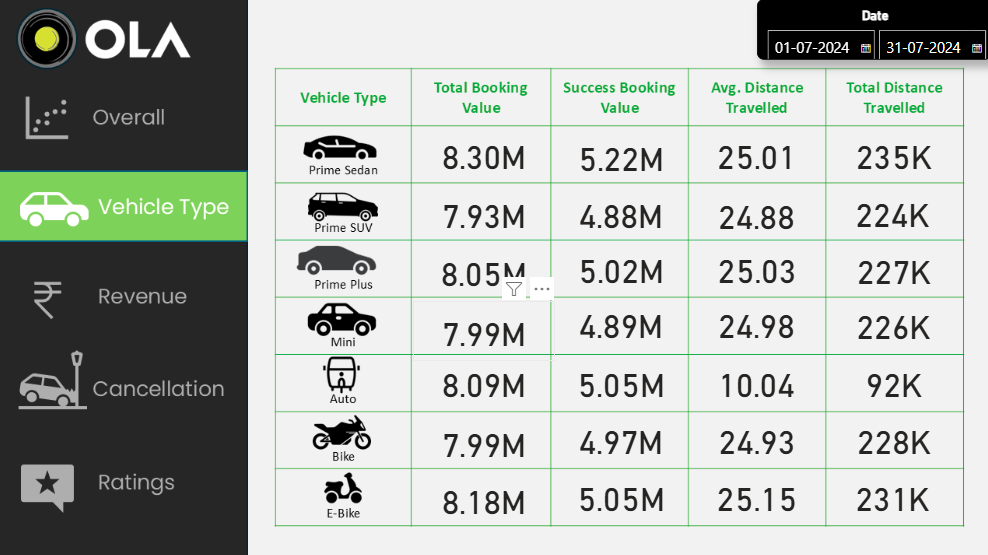

This screenshot's page, from the dashboard's own definition file:
{"tool":"powerbi","page":{"name":"Vehicle Type","canvas":[1280,720],"ordinal":1},"visuals":[{"type":"card","fields":{"Values":["Sum(Bookings.Booking_Value)"]},"box":[535.9,167.1,182.5,63],"z":0},{"type":"card","fields":{"Values":["Sum(Bookings.Booking_Value)"]},"box":[535.9,236.5,182.5,77.1],"z":1000},{"type":"card","fields":{"Values":["Sum(Bookings.Booking_Value)"]},"box":[535.9,311,182.5,77.1],"z":2000},{"type":"card","fields":{"Values":["Sum(Bookings.Booking_Value)"]},"box":[535.9,388.1,182.5,77.1],"z":3000},{"type":"card","fields":{"Values":["Sum(Bookings.Booking_Value)"]},"box":[535.9,453.7,182.5,77.1],"z":4000},{"type":"card","fields":{"Values":["Sum(Bookings.Booking_Value)"]},"box":[535.9,530.8,182.5,77.1],"z":5000},{"type":"card","fields":{"Values":["Sum(Bookings.Booking_Value)"]},"box":[535.9,607.9,182.5,68.1],"z":6000},{"type":"card","fields":{"Values":["Sum(Bookings.Booking_Value)"]},"box":[718.4,167.1,169.6,69.4],"z":7000},{"type":"card","fields":{"Values":["Sum(Bookings.Booking_Value)"]},"box":[718.4,236.5,169.6,75.8],"z":8000},{"type":"card","fields":{"Values":["Sum(Bookings.Booking_Value)"]},"box":[718.4,377.8,169.6,75.8],"z":9000},{"type":"card","fields":{"Values":["Sum(Bookings.Booking_Value)"]},"box":[718.4,312.3,169.6,65.5],"z":10000},{"type":"card","fields":{"Values":["Sum(Bookings.Booking_Value)"]},"box":[718.4,530.8,169.6,69.4],"z":11000},{"type":"card","fields":{"Values":["Sum(Bookings.Booking_Value)"]},"box":[718.4,453.7,169.6,77.1],"z":12000},{"type":"card","fields":{"Values":["Sum(Bookings.Booking_Value)"]},"box":[718.4,600.2,169.6,75.8],"z":13000},{"type":"card","fields":{"Values":["Avg(Bookings.Ride_Distance)"]},"box":[888,167.1,178.6,63],"z":14000},{"type":"card","fields":{"Values":["Avg(Bookings.Ride_Distance)"]},"box":[888,237.8,178.6,75.8],"z":15000},{"type":"card","fields":{"Values":["Avg(Bookings.Ride_Distance)"]},"box":[893.2,312.3,169.6,65.5],"z":16000},{"type":"card","fields":{"Values":["Avg(Bookings.Ride_Distance)"]},"box":[888,377.8,178.6,75.8],"z":17000},{"type":"card","fields":{"Values":["Avg(Bookings.Ride_Distance)"]},"box":[888,453.7,178.6,77.1],"z":18000},{"type":"card","fields":{"Values":["Avg(Bookings.Ride_Distance)"]},"box":[893.2,530.8,169.6,69.4],"z":19000},{"type":"card","fields":{"Values":["Avg(Bookings.Ride_Distance)"]},"box":[893.2,600.2,169.6,75.8],"z":20000},{"type":"card","fields":{"Values":["Sum(Bookings.Ride_Distance)"]},"box":[1066.7,167.1,174.8,63],"z":21000},{"type":"card","fields":{"Values":["Sum(Bookings.Ride_Distance)"]},"box":[1062.8,235.2,178.6,75.8],"z":22000},{"type":"card","fields":{"Values":["Sum(Bookings.Ride_Distance)"]},"box":[1069.2,313.6,169.6,65.5],"z":23000},{"type":"card","fields":{"Values":["Sum(Bookings.Ride_Distance)"]},"box":[1064.1,379.1,178.6,75.8],"z":24000},{"type":"card","fields":{"Values":["Sum(Bookings.Ride_Distance)"]},"box":[1069.2,453.7,169.6,77.1],"z":25000},{"type":"card","fields":{"Values":["Sum(Bookings.Ride_Distance)"]},"box":[1069.2,530.8,169.6,69.4],"z":26000},{"type":"card","fields":{"Values":["Sum(Bookings.Ride_Distance)"]},"box":[1062.8,600.2,178.6,75.8],"z":27000},{"type":"slicer","title":"Date","fields":{"Values":["Bookings.Date"]},"box":[978,0,302,78.4],"z":28000},{"type":"actionButton","box":[0,108,322.6,86.1],"z":29000},{"type":"actionButton","box":[0,448.5,322.6,86.1],"z":30000},{"type":"actionButton","box":[0,565.5,322.6,100.2],"z":31000},{"type":"actionButton","box":[0,114.4,322.6,79.7],"z":32000},{"type":"actionButton","box":[10,124.4,322.6,79.7],"z":33000},{"type":"actionButton","box":[10,118,322.6,86.1],"z":34000}]}

Visuals, with their boxes on the page's 1280x720 design canvas (x1, y1, x2, y2). These are canvas units, not pixel positions in the 988x555 screenshot, which may show the page scaled, cropped or inside an application window:
card - Sum(Bookings.Booking_Value): locate(536, 167, 718, 230)
card - Sum(Bookings.Booking_Value): locate(536, 236, 718, 314)
card - Sum(Bookings.Booking_Value): locate(536, 311, 718, 388)
card - Sum(Bookings.Booking_Value): locate(536, 388, 718, 465)
card - Sum(Bookings.Booking_Value): locate(536, 454, 718, 531)
card - Sum(Bookings.Booking_Value): locate(536, 531, 718, 608)
card - Sum(Bookings.Booking_Value): locate(536, 608, 718, 676)
card - Sum(Bookings.Booking_Value): locate(718, 167, 888, 236)
card - Sum(Bookings.Booking_Value): locate(718, 236, 888, 312)
card - Sum(Bookings.Booking_Value): locate(718, 378, 888, 454)
card - Sum(Bookings.Booking_Value): locate(718, 312, 888, 378)
card - Sum(Bookings.Booking_Value): locate(718, 531, 888, 600)
card - Sum(Bookings.Booking_Value): locate(718, 454, 888, 531)
card - Sum(Bookings.Booking_Value): locate(718, 600, 888, 676)
card - Avg(Bookings.Ride_Distance): locate(888, 167, 1067, 230)
card - Avg(Bookings.Ride_Distance): locate(888, 238, 1067, 314)
card - Avg(Bookings.Ride_Distance): locate(893, 312, 1063, 378)
card - Avg(Bookings.Ride_Distance): locate(888, 378, 1067, 454)
card - Avg(Bookings.Ride_Distance): locate(888, 454, 1067, 531)
card - Avg(Bookings.Ride_Distance): locate(893, 531, 1063, 600)
card - Avg(Bookings.Ride_Distance): locate(893, 600, 1063, 676)
card - Sum(Bookings.Ride_Distance): locate(1067, 167, 1242, 230)
card - Sum(Bookings.Ride_Distance): locate(1063, 235, 1241, 311)
card - Sum(Bookings.Ride_Distance): locate(1069, 314, 1239, 379)
card - Sum(Bookings.Ride_Distance): locate(1064, 379, 1243, 455)
card - Sum(Bookings.Ride_Distance): locate(1069, 454, 1239, 531)
card - Sum(Bookings.Ride_Distance): locate(1069, 531, 1239, 600)
card - Sum(Bookings.Ride_Distance): locate(1063, 600, 1241, 676)
"Date" slicer: locate(978, 0, 1280, 78)
actionButton: locate(0, 108, 323, 194)
actionButton: locate(0, 448, 323, 535)
actionButton: locate(0, 566, 323, 666)
actionButton: locate(0, 114, 323, 194)
actionButton: locate(10, 124, 333, 204)
actionButton: locate(10, 118, 333, 204)
